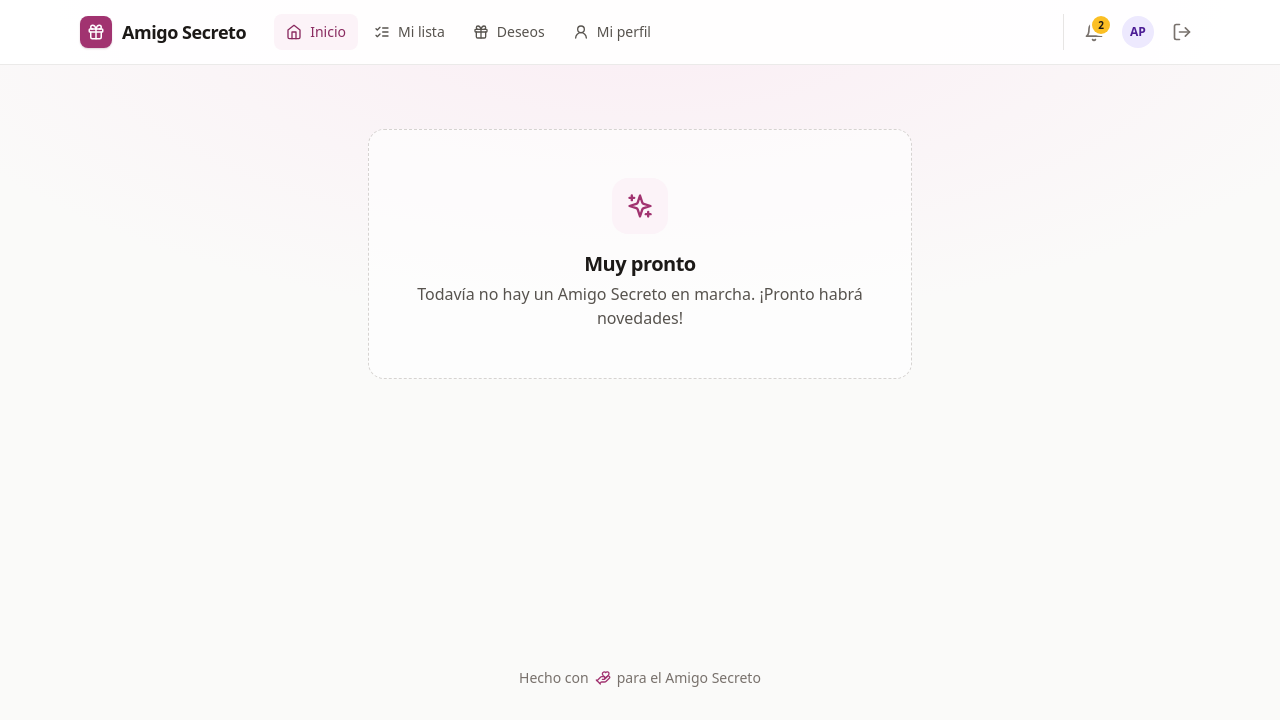
Test: NotificationBell › navega al enlace de la notificación y se cierra
Step 1. Click the button named "Notificaciones" → click(1094, 32), box [1076,14,1112,50]
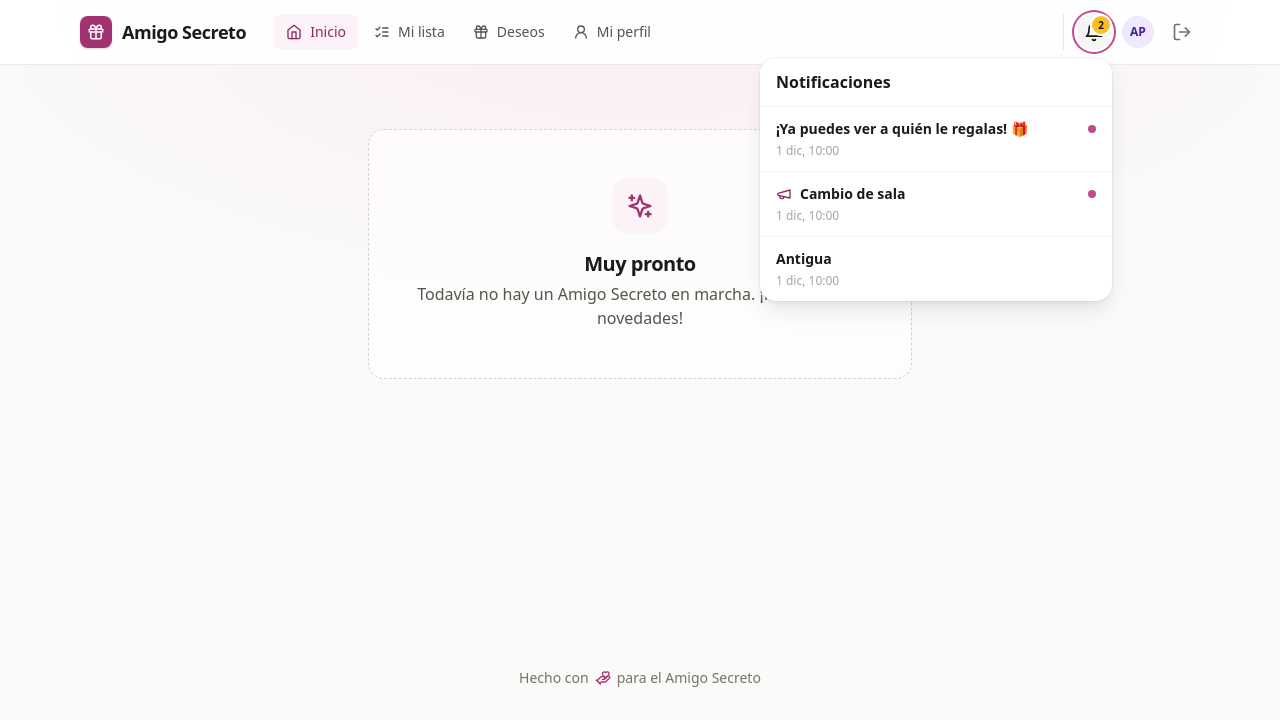
Step 2. Click the text "Cambio de sala" → click(853, 194), box [776,184,1096,204]
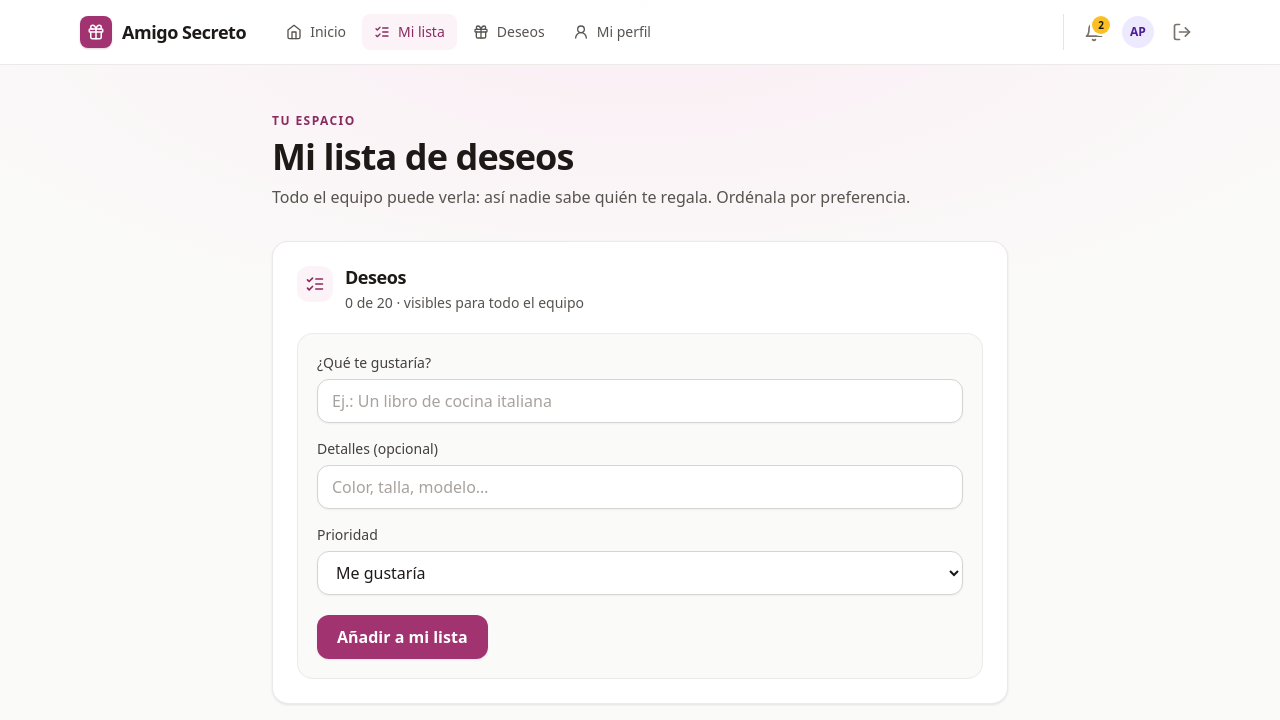
Expected: the text "Notificaciones" is gone
